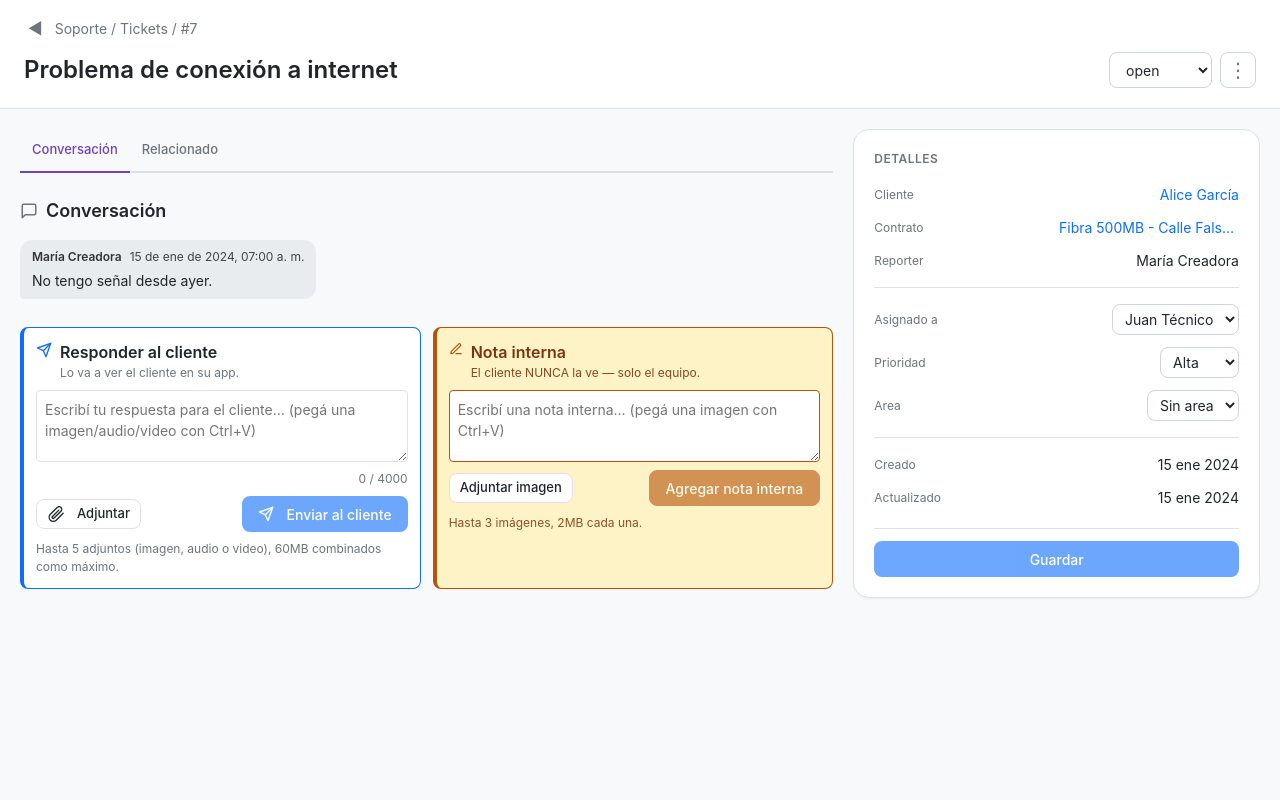
Scenario: TicketDetailPage (Prominense layout) › "Crear tarea" kebab opens the CreateTaskModal prefilled from the ticket
Click the button named "acciones": (1238, 70) [1220,52,1256,88]
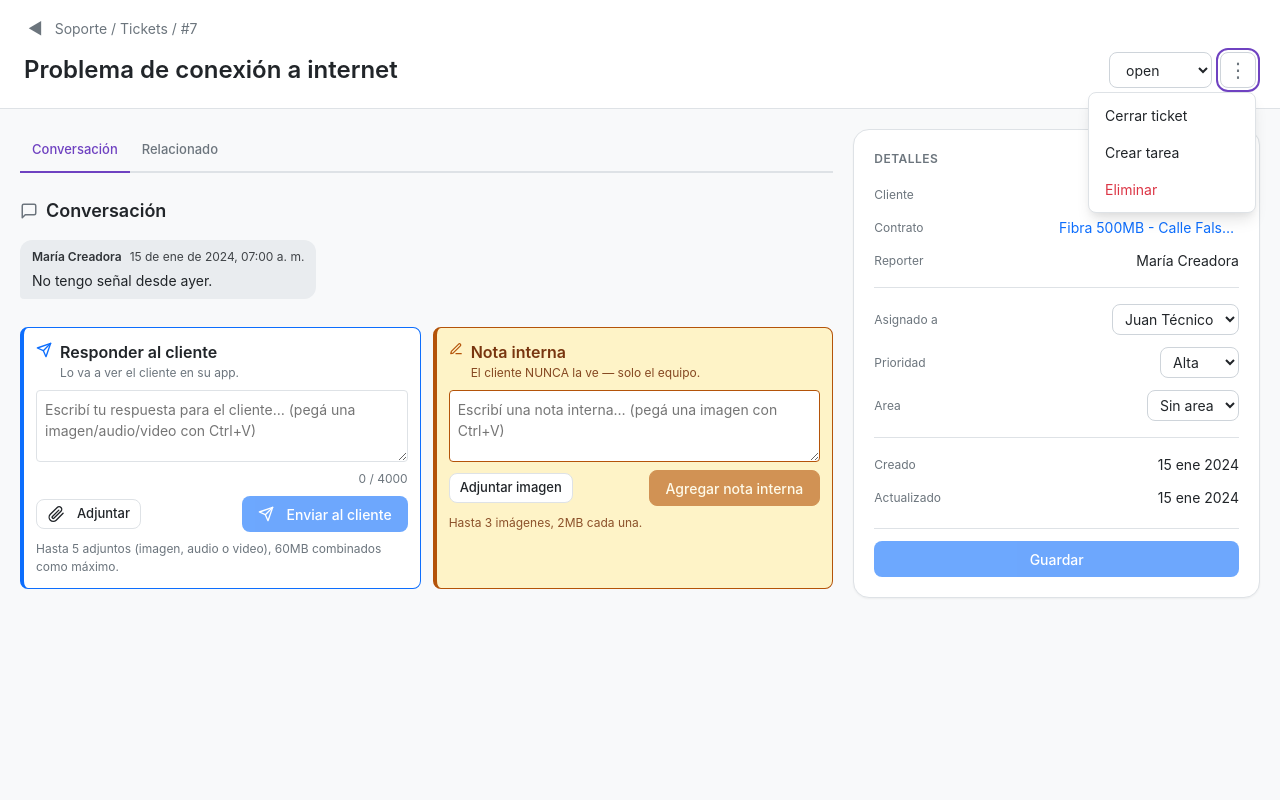
Click the menu item "Crear tarea": (1172, 152) [1093,134,1251,171]
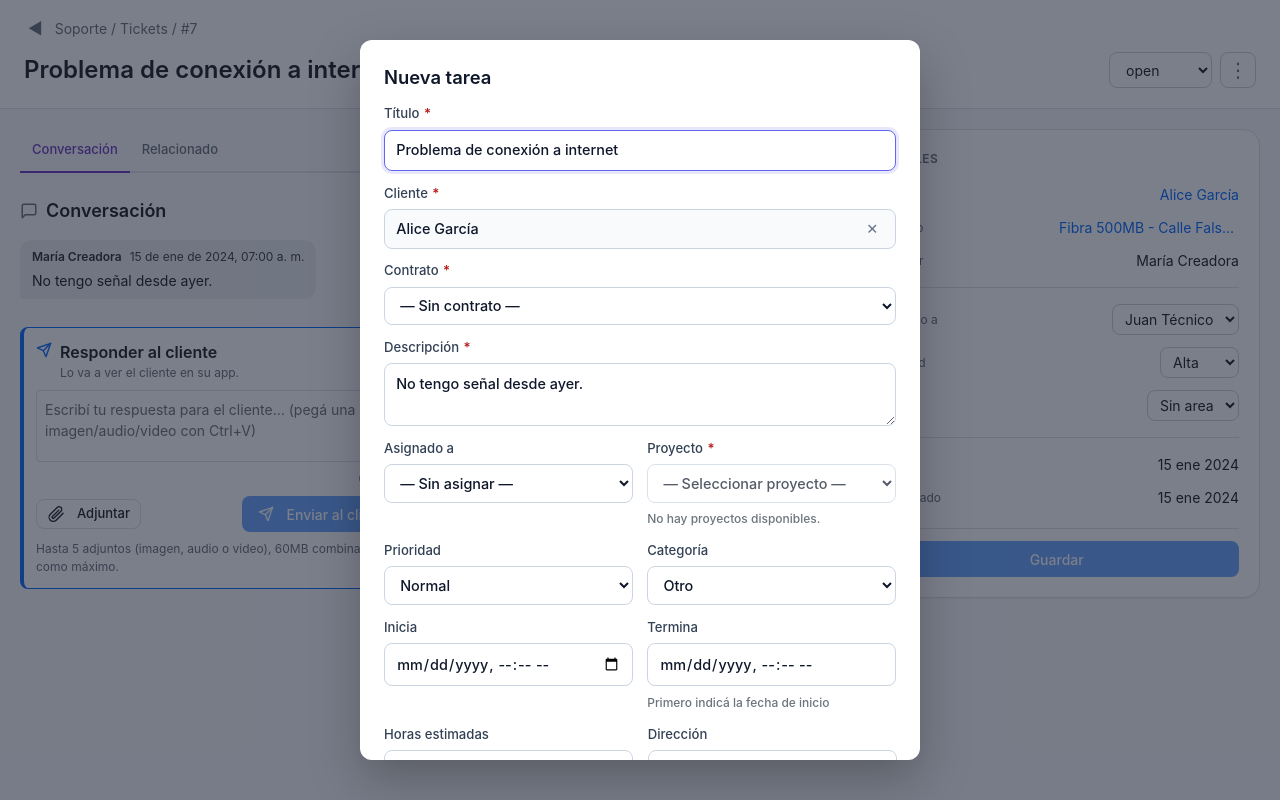
Expected: the field with placeholder "Título de la tarea" holds "Problema de conexión a internet", [384,130,896,171]
